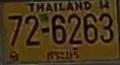2: (25, 14, 39, 44), (68, 13, 81, 43)
3: (99, 12, 113, 42)
6: (83, 13, 97, 43), (51, 14, 65, 43)
7: (8, 14, 22, 46)
SRI: (45, 46, 81, 61)
